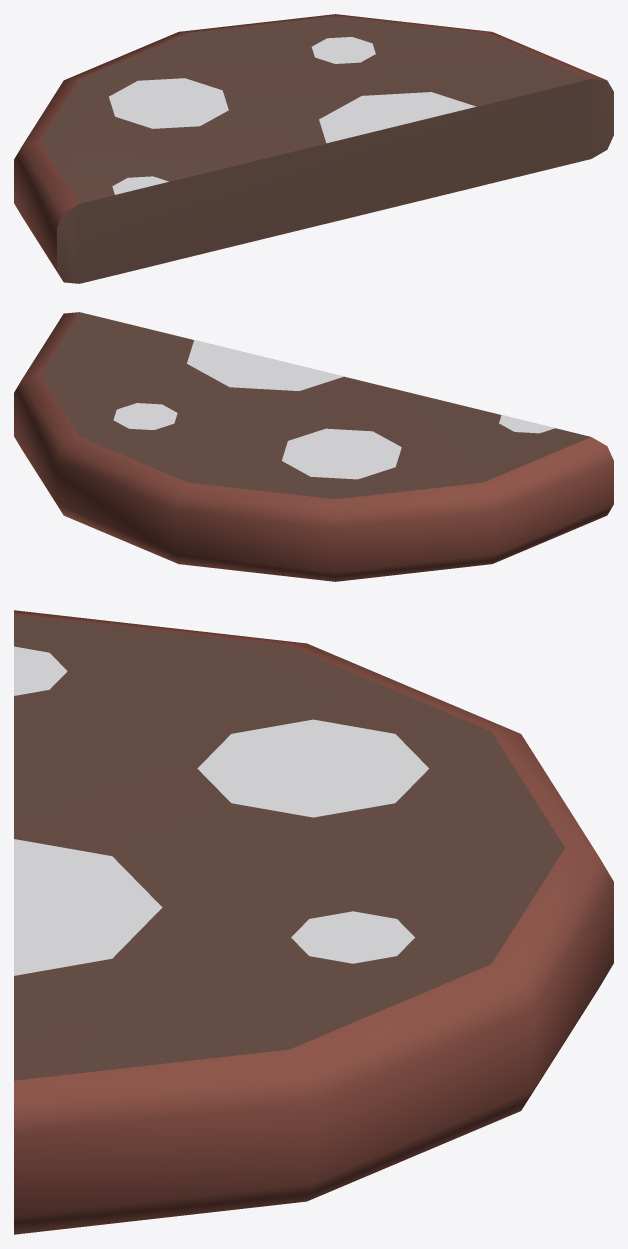
The model's file is Sausage_half.013.fbx.
3 views of the same model, one above another, from view 1: azimuth 30°, elevation 25°; view 2: azimuth 150°, elevation 25°; view 3: azimuth 270°, elevation 25° (orthographic). The views are drawn at different scales.
Parts seen in each view (by area): view 1: Sausage_half.013; view 2: Sausage_half.013; view 3: Sausage_half.013.
Boxes of the visible parts, x1,y1,x2,y2 form: Sausage_half.013: [14, 14, 613, 283]; Sausage_half.013: [14, 312, 613, 581]; Sausage_half.013: [14, 610, 613, 1234].
Bounding box in the file's own units: 66.24 × 33.12 × 9.16.
